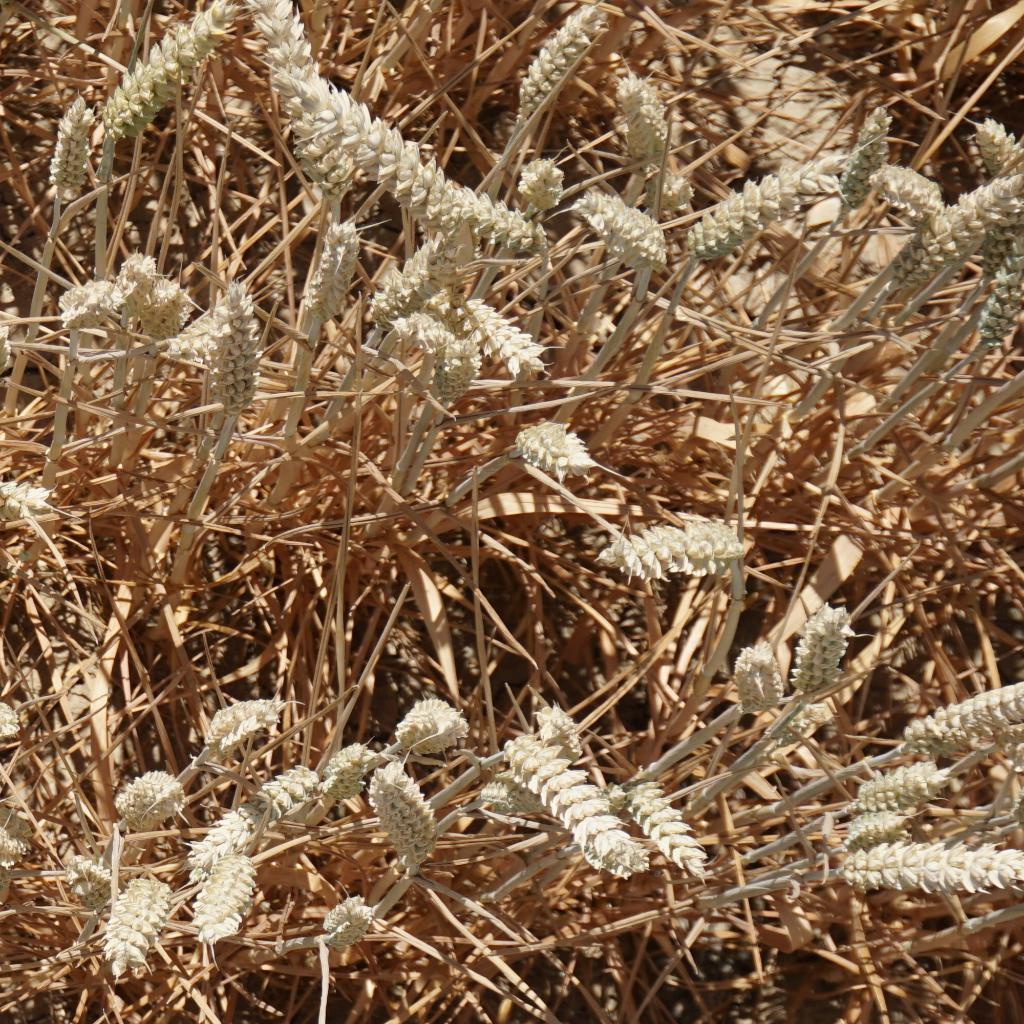0-0: (318, 90, 519, 246), (875, 165, 1024, 308), (691, 146, 861, 271), (503, 732, 644, 870), (251, 7, 352, 181), (100, 0, 210, 151), (831, 826, 1024, 906), (596, 502, 775, 579), (188, 283, 273, 429), (614, 761, 710, 879), (200, 754, 313, 846), (515, 0, 600, 121), (474, 761, 629, 826), (902, 663, 1024, 744), (366, 752, 449, 871), (456, 287, 557, 384), (787, 590, 864, 698), (610, 70, 687, 173), (563, 183, 661, 263), (195, 675, 283, 763), (830, 787, 935, 860), (291, 226, 362, 330), (379, 226, 462, 313), (502, 415, 604, 484), (838, 105, 898, 222), (190, 850, 256, 956), (847, 751, 955, 814), (100, 876, 169, 972), (966, 246, 1024, 359), (39, 90, 98, 197), (104, 750, 181, 825), (975, 189, 1024, 296), (958, 100, 1024, 179), (866, 159, 939, 228), (307, 736, 381, 803), (139, 285, 200, 366), (732, 628, 787, 714), (49, 263, 118, 328), (390, 701, 467, 759), (65, 844, 128, 911), (528, 701, 593, 764), (757, 695, 832, 749), (318, 884, 376, 953), (427, 342, 486, 409), (0, 462, 57, 527), (391, 303, 446, 368), (516, 153, 570, 208), (108, 253, 167, 299), (0, 799, 36, 872), (0, 309, 23, 384), (0, 697, 21, 755), (0, 848, 23, 898)
